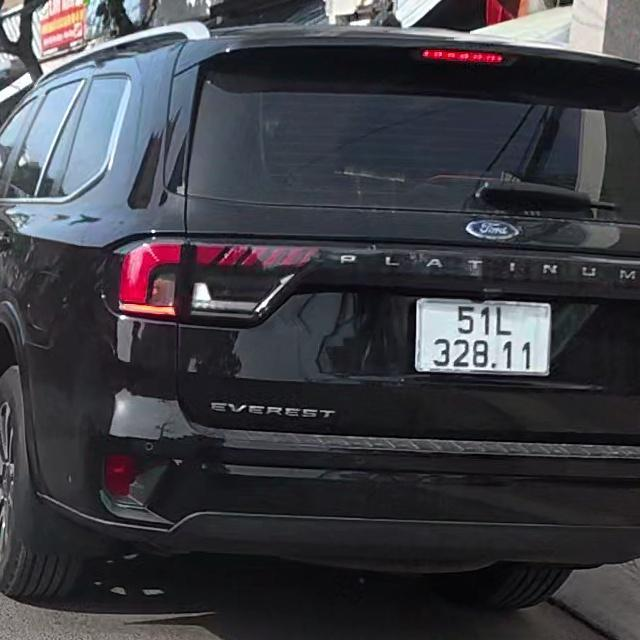car: (0, 25, 639, 623)
plate: (409, 286, 558, 380)
